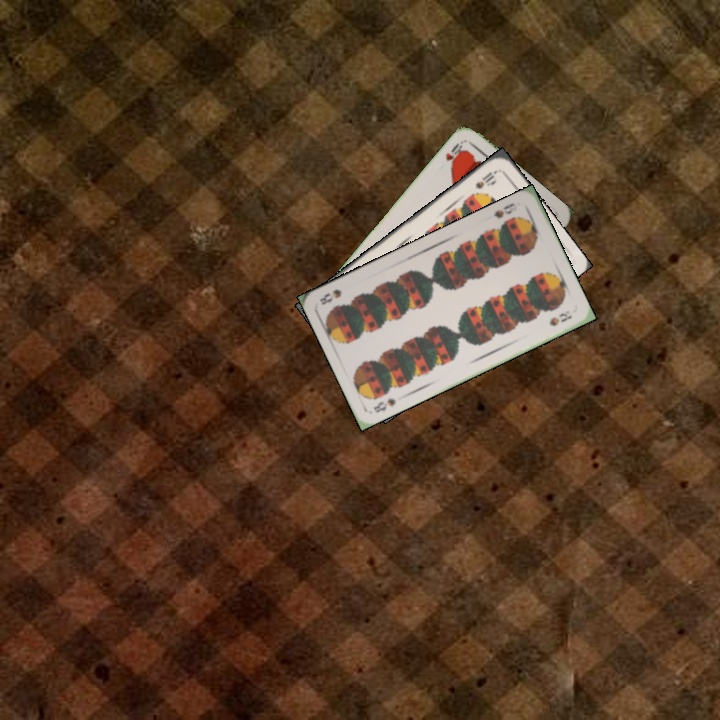HO: (441, 137, 469, 169)
S10: (471, 166, 500, 192)
S8: (490, 199, 520, 221), (369, 394, 398, 415)
